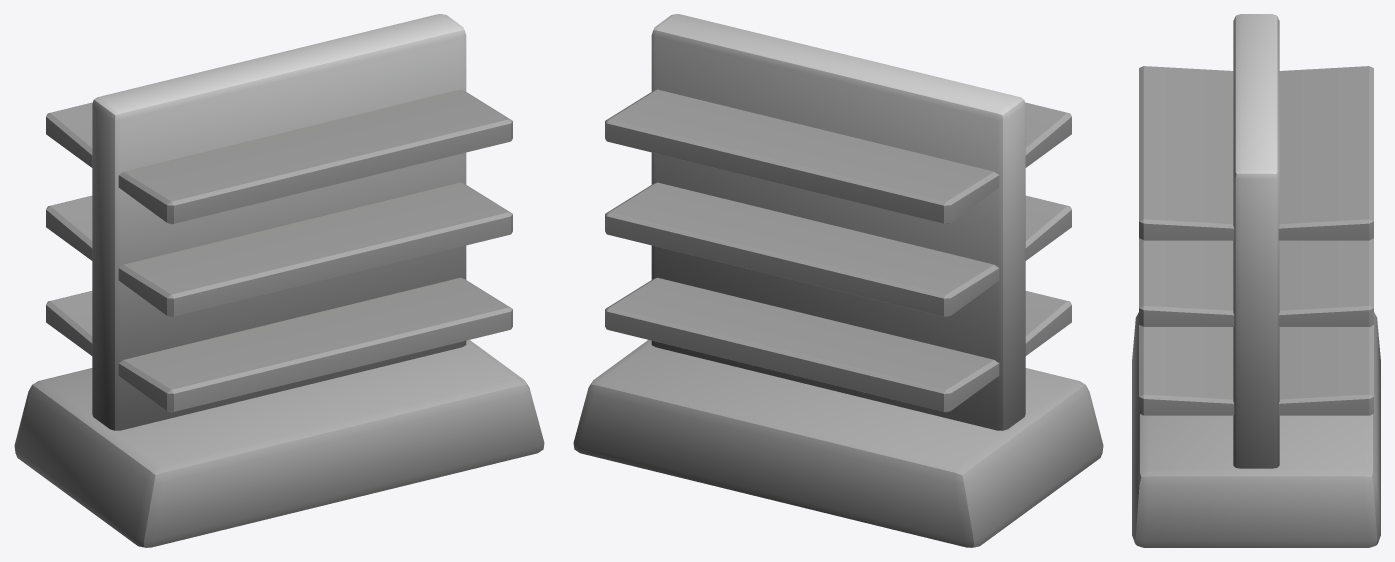
Rendered from Kitchen_Rack_02.fbx.
3 views of the same model, side by side, from view 1: azimuth 30°, elevation 25°; view 2: azimuth 150°, elevation 25°; view 3: azimuth 270°, elevation 25° (orthographic). The views are drawn at different scales.
Parts seen in each view (by area): view 1: Kitchen_Rack_02; view 2: Kitchen_Rack_02; view 3: Kitchen_Rack_02.
Part boxes in pixels (bbox=[...]): Kitchen_Rack_02: bbox=[14, 14, 544, 547]; Kitchen_Rack_02: bbox=[573, 14, 1103, 547]; Kitchen_Rack_02: bbox=[1132, 14, 1380, 547].
Bounding box in the file's own units: 200 × 185 × 114.
